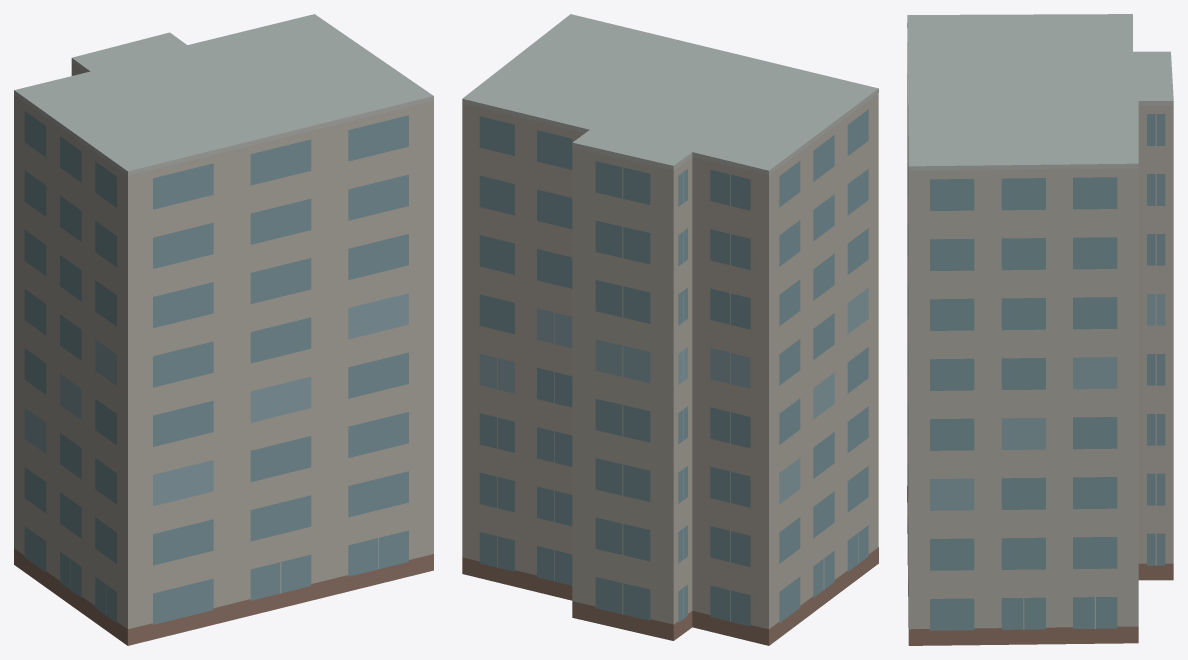
File: survey-upis-32752247.glb
3 renders of one model, left to right at view 1: azimuth 30°, elevation 25°; view 2: azimuth 150°, elevation 25°; view 3: azimuth 270°, elevation 25°, orthographic.
Visible parts, largest first — view 1: survey-upis-32752247.tmp; view 2: survey-upis-32752247.tmp; view 3: survey-upis-32752247.tmp.
Boxes of the visible parts, <box> form: survey-upis-32752247.tmp: <box>14,14,433,645</box>; survey-upis-32752247.tmp: <box>462,14,878,645</box>; survey-upis-32752247.tmp: <box>907,14,1173,645</box>.
Bounding box in the file's own units: 16.63 × 24.4 × 12.3.
